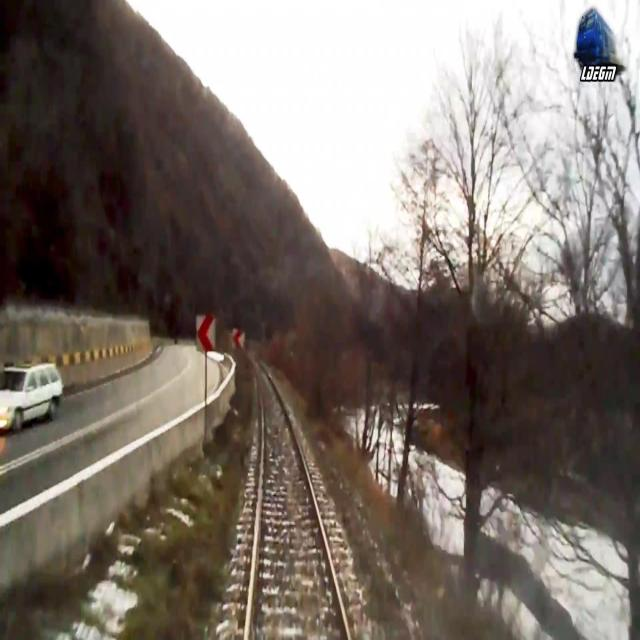rail-track: (249, 356, 346, 639)
